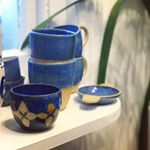cups: (6, 82, 63, 135)
